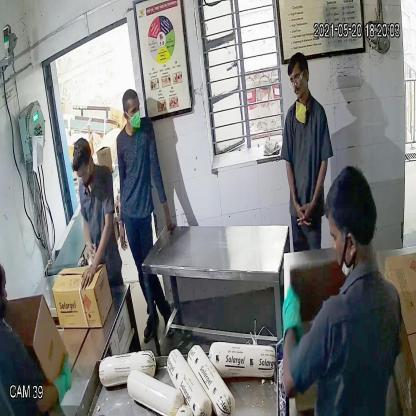goggles: (285, 74, 308, 92)
no_goggles: (121, 103, 142, 118)
